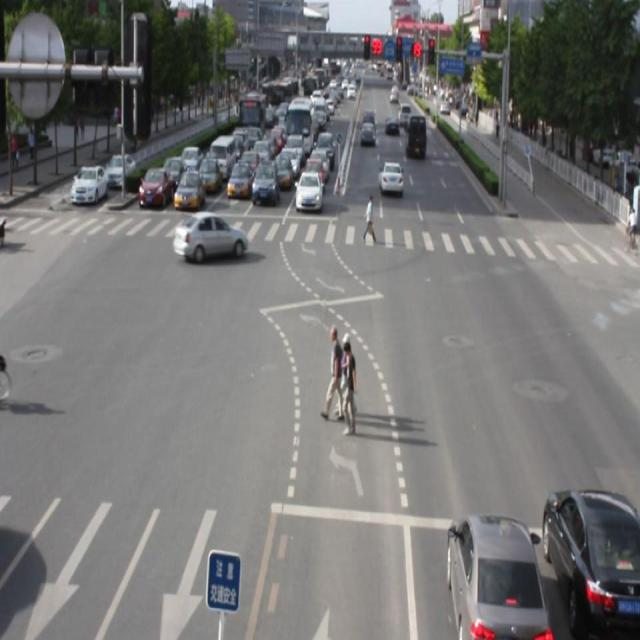car: (535, 493, 640, 640), (442, 516, 541, 640), (173, 210, 248, 262)
